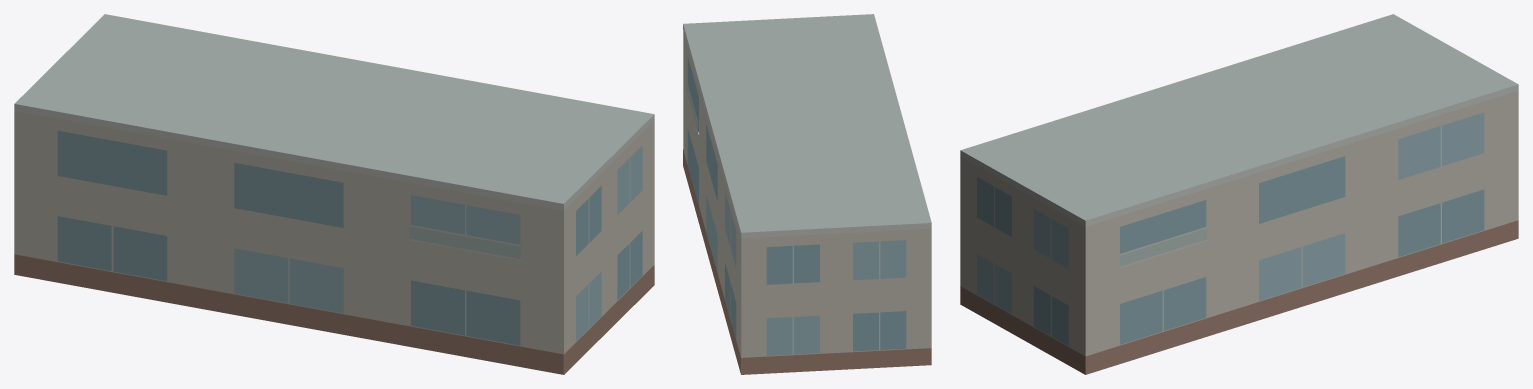
The model's file is survey-upis-32813769.glb.
3 renders of one model, left to right at view 1: azimuth 30°, elevation 25°; view 2: azimuth 150°, elevation 25°; view 3: azimuth 270°, elevation 25°, orthographic. The views are drawn at different scales.
Parts seen in each view (by area): view 1: survey-upis-32813769.tmp; view 2: survey-upis-32813769.tmp; view 3: survey-upis-32813769.tmp.
Part boxes in pixels (box(x1,y1,x2,y2)): survey-upis-32813769.tmp: box(14, 14, 654, 374); survey-upis-32813769.tmp: box(683, 14, 931, 374); survey-upis-32813769.tmp: box(960, 14, 1518, 374).
Bounding box in the file's own units: 17.55 × 6.1 × 20.02.
